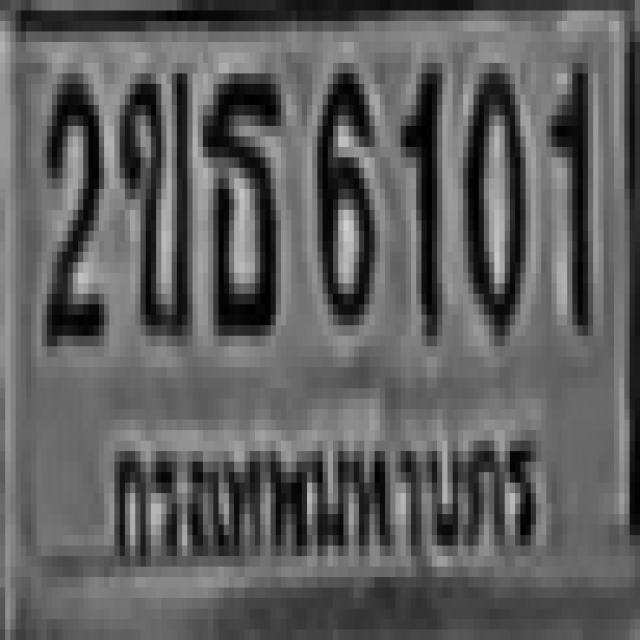0: (458, 57, 520, 330)
1: (546, 52, 588, 326), (396, 52, 437, 326)
11KhorKhai: (114, 63, 188, 325)
2: (42, 63, 98, 336)
33ThorThong: (200, 63, 278, 325)
6: (312, 63, 370, 315)
Bangkok: (95, 421, 555, 582)
